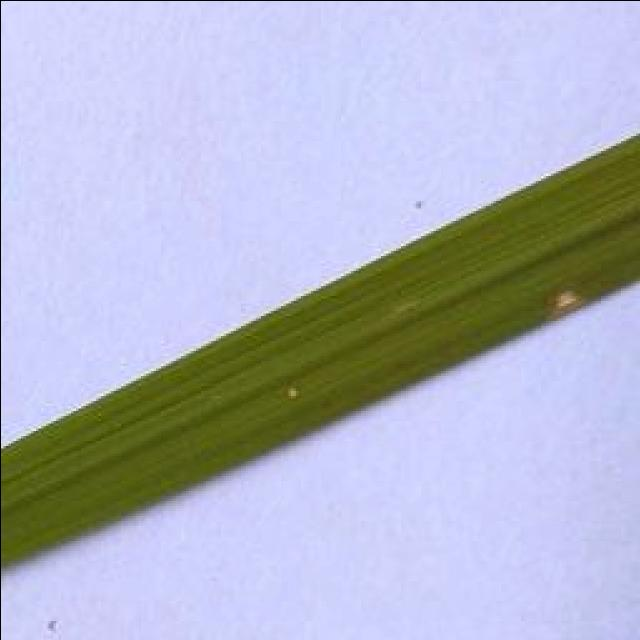Unhealthy: (544, 283, 591, 319), (282, 381, 302, 404)
